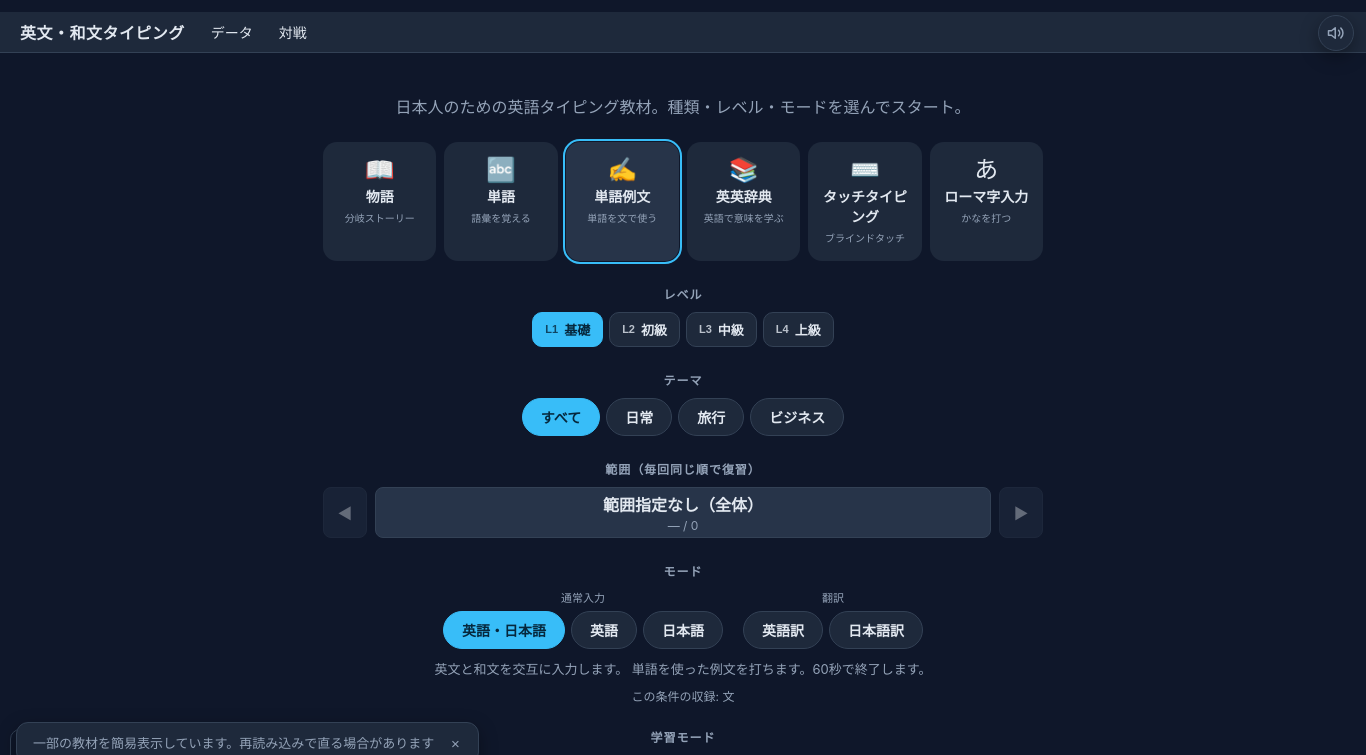
App スモーク › 「ローマ字入力」を選んで開始してもクラッシュせずプレイ画面になる
Click the text "ローマ字入力" at (986, 196), box x1=944 y1=186 x2=1028 y2=206
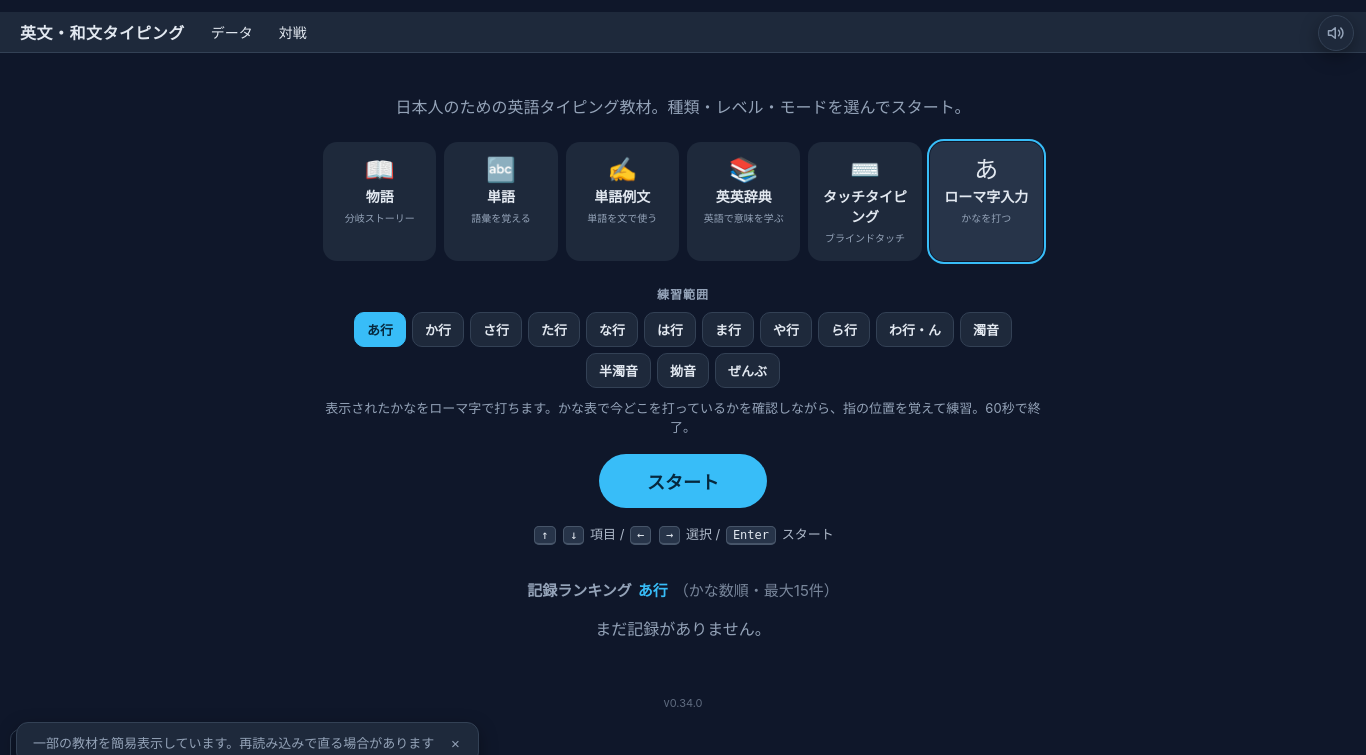
Click the button "スタート" at (683, 481), box x1=599 y1=454 x2=767 y2=508
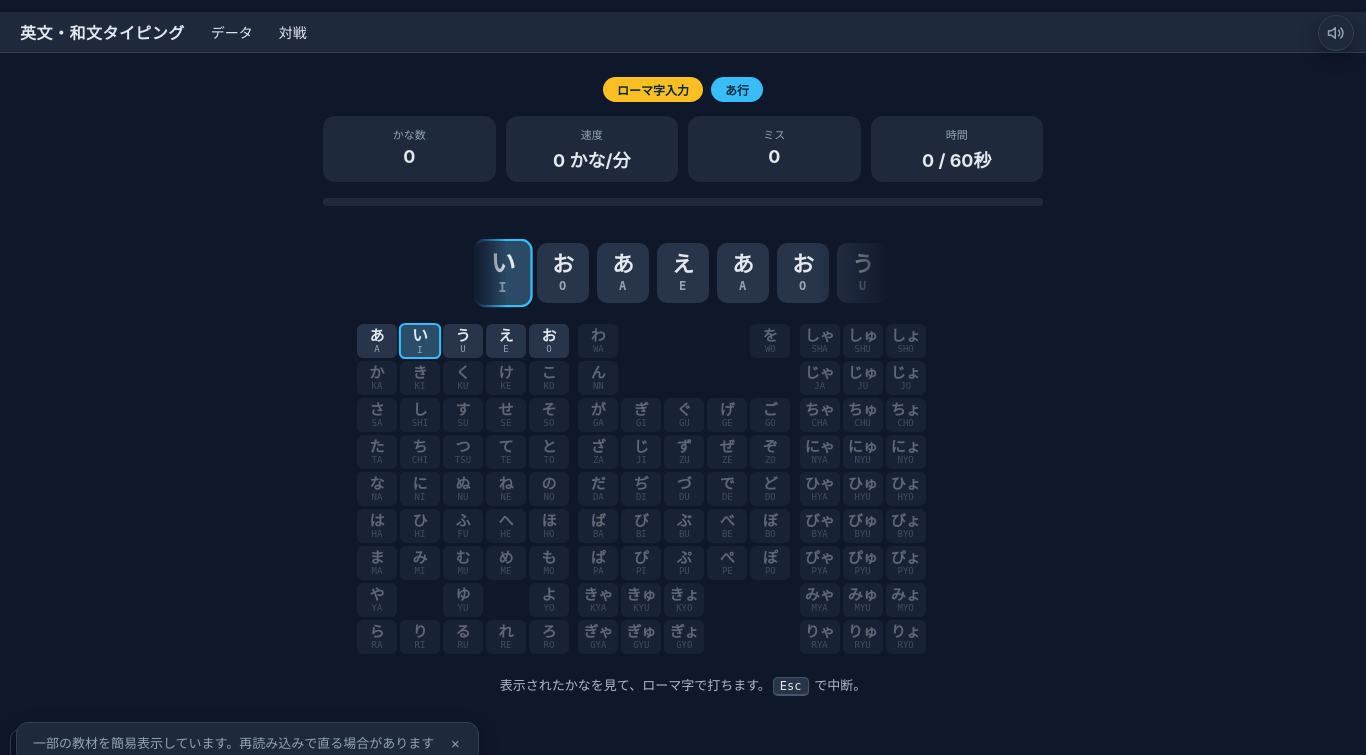
Expected: the element with class "ready" is gone
Expected: the element that starts with "ローマ字入力" is shown, x1=323 y1=77 x2=1043 y2=707
